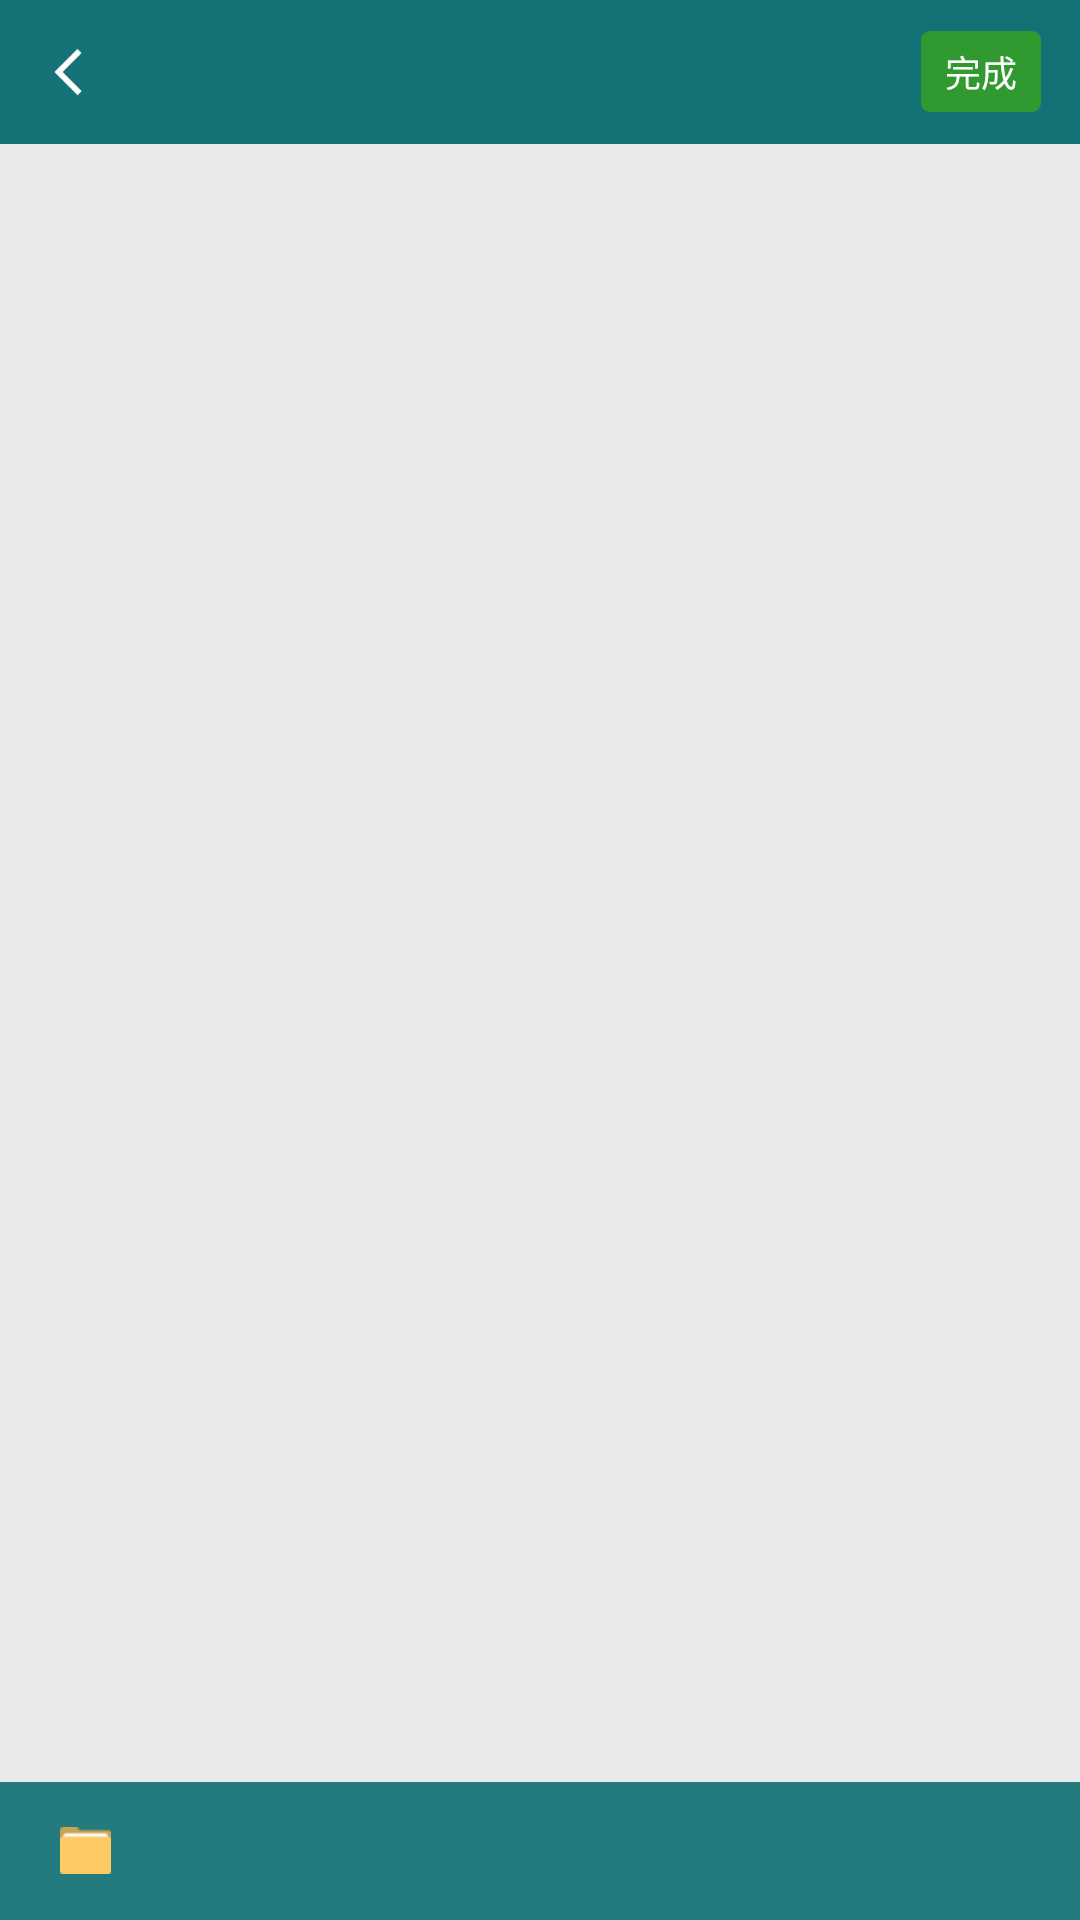

Icons on this 1080×1920 Android screen, each with its box as BBox(x1, y1, x2, y2):
back: BBox(54, 49, 82, 96)
